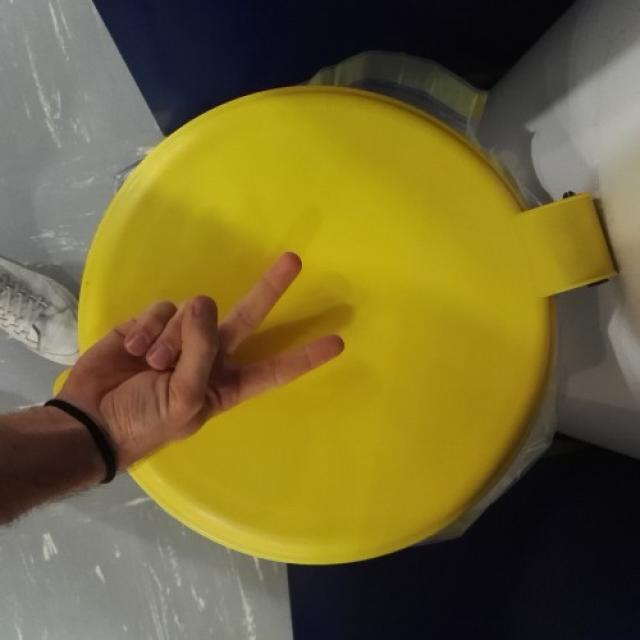scissors: (61, 245, 346, 441)
